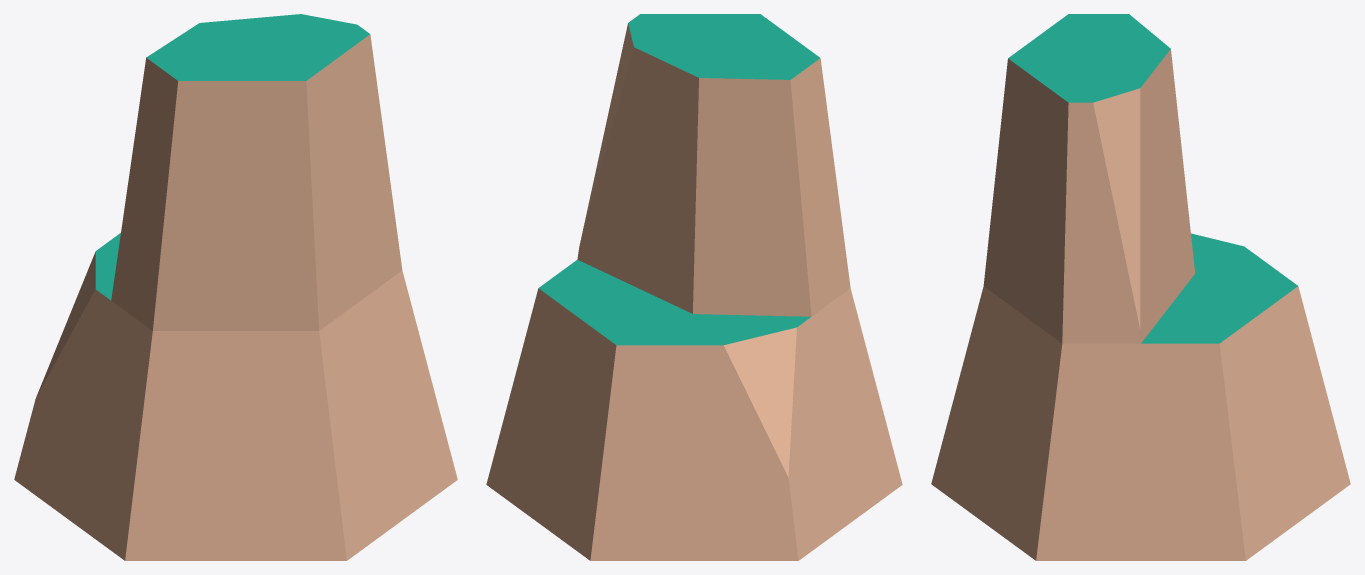
The model's file is rock_tallF.glb.
The picture shows the model from 3 angles, left to right: view 1: azimuth 30°, elevation 25°; view 2: azimuth 150°, elevation 25°; view 3: azimuth 270°, elevation 25°; orthographic projection. The views are drawn at different scales.
Visible parts, largest first — view 1: rock_tallF; view 2: rock_tallF; view 3: rock_tallF.
Boxes of the visible parts, box(x1,y1,x2,y2) form: rock_tallF: box(14, 14, 457, 560); rock_tallF: box(486, 14, 902, 560); rock_tallF: box(931, 14, 1350, 560).
Size of the model in its own units: 0.5324 by 0.6884 by 0.6148.
